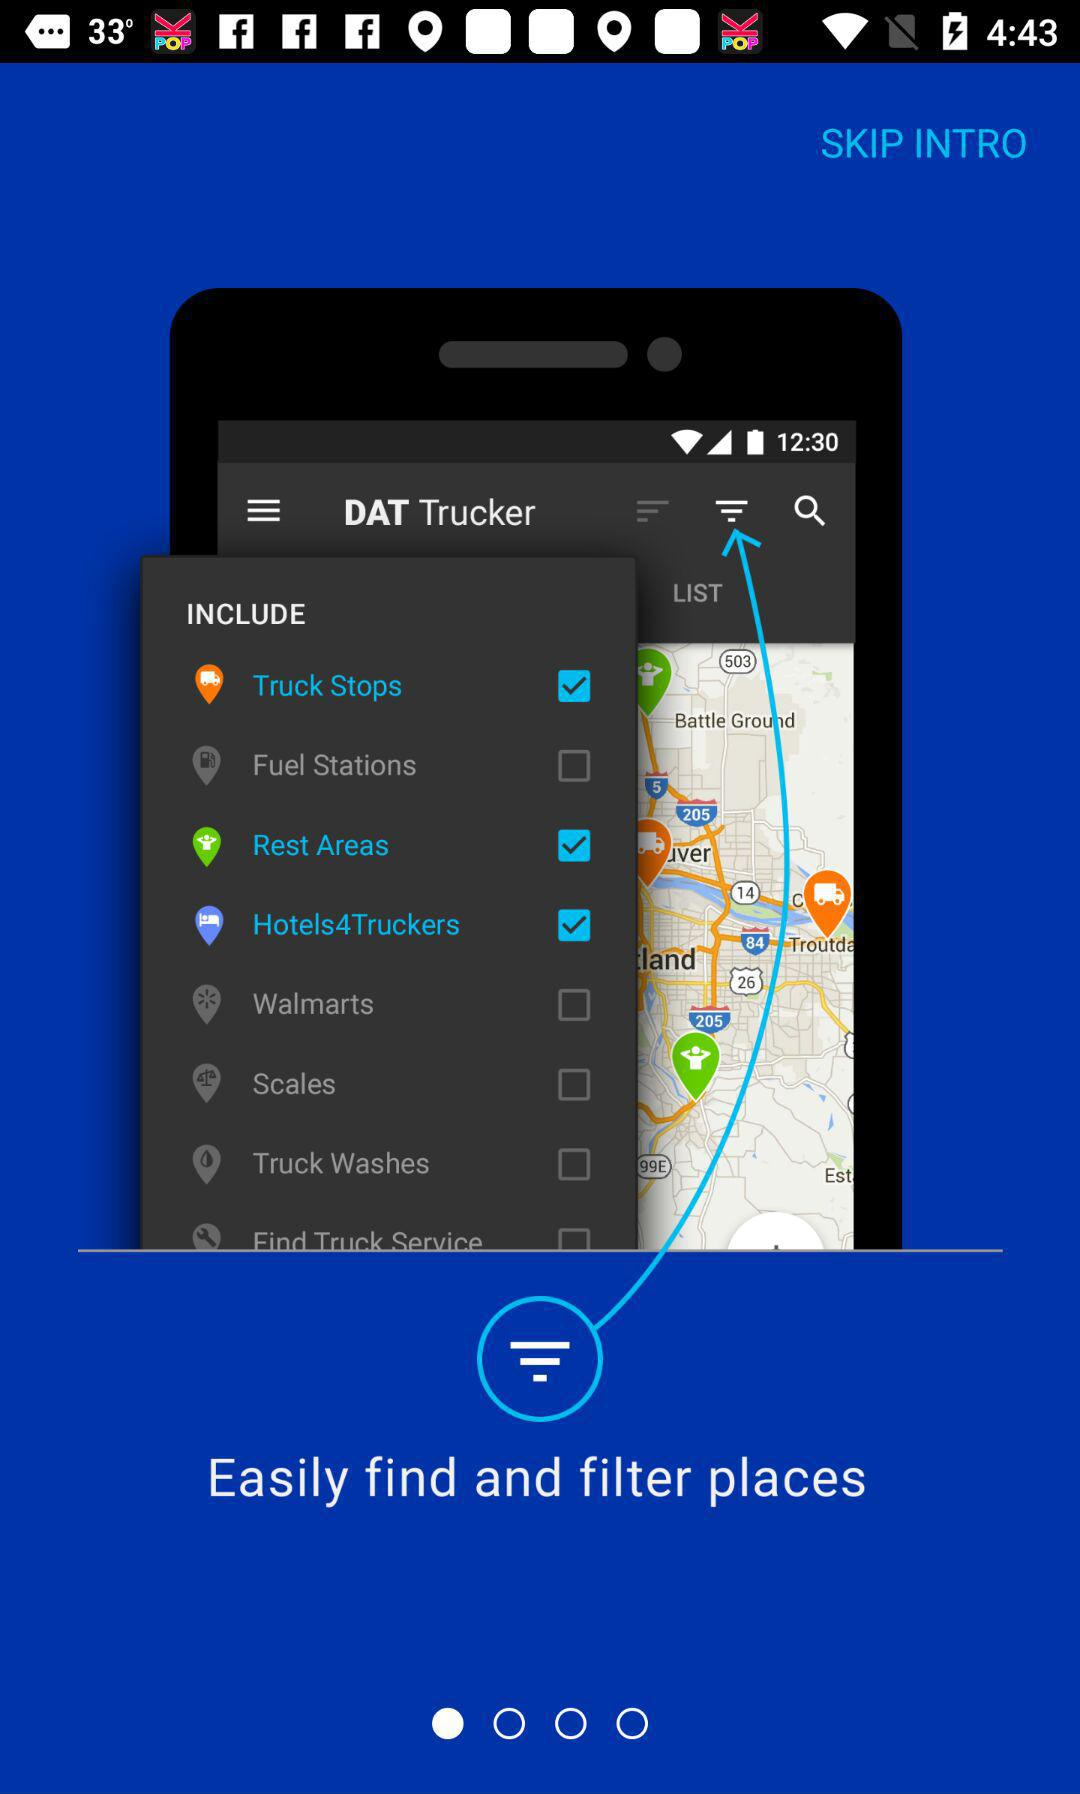Image: (137, 287, 904, 1424)
PageIndicator: (430, 1706, 651, 1743)
Text: (209, 1454, 867, 1510), (821, 128, 1027, 161)
UpperTaskBar: (1, 1, 1080, 64)
